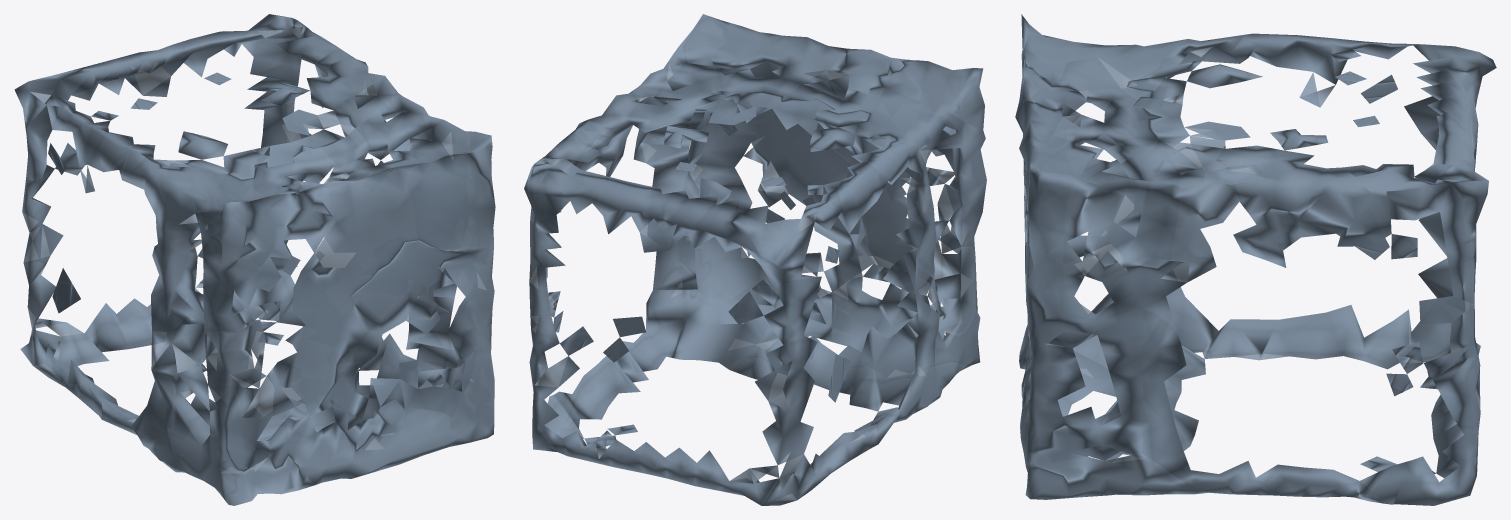
The model's file is sample_633_recon.obj.
3 views of the same model, side by side, from view 1: azimuth 30°, elevation 25°; view 2: azimuth 150°, elevation 25°; view 3: azimuth 270°, elevation 25° (orthographic). The views are drawn at different scales.
Size of the model in its own units: 1.03 by 1.03 by 1.29.
